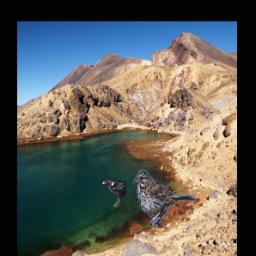Crow: (102, 180, 127, 209)
Sparrow: (132, 169, 196, 229)
